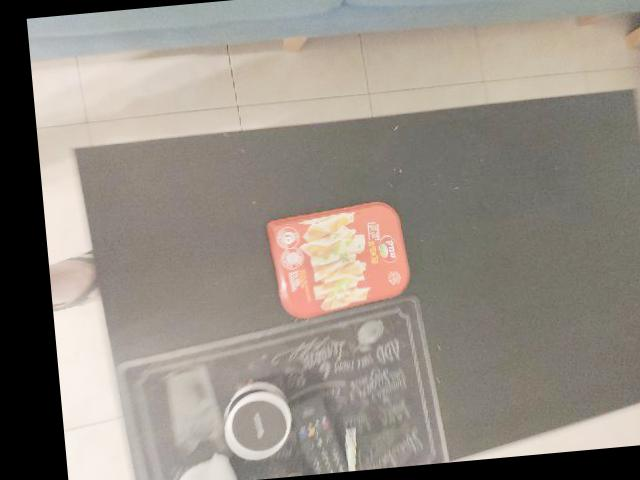cheese: (250, 193, 409, 317)
